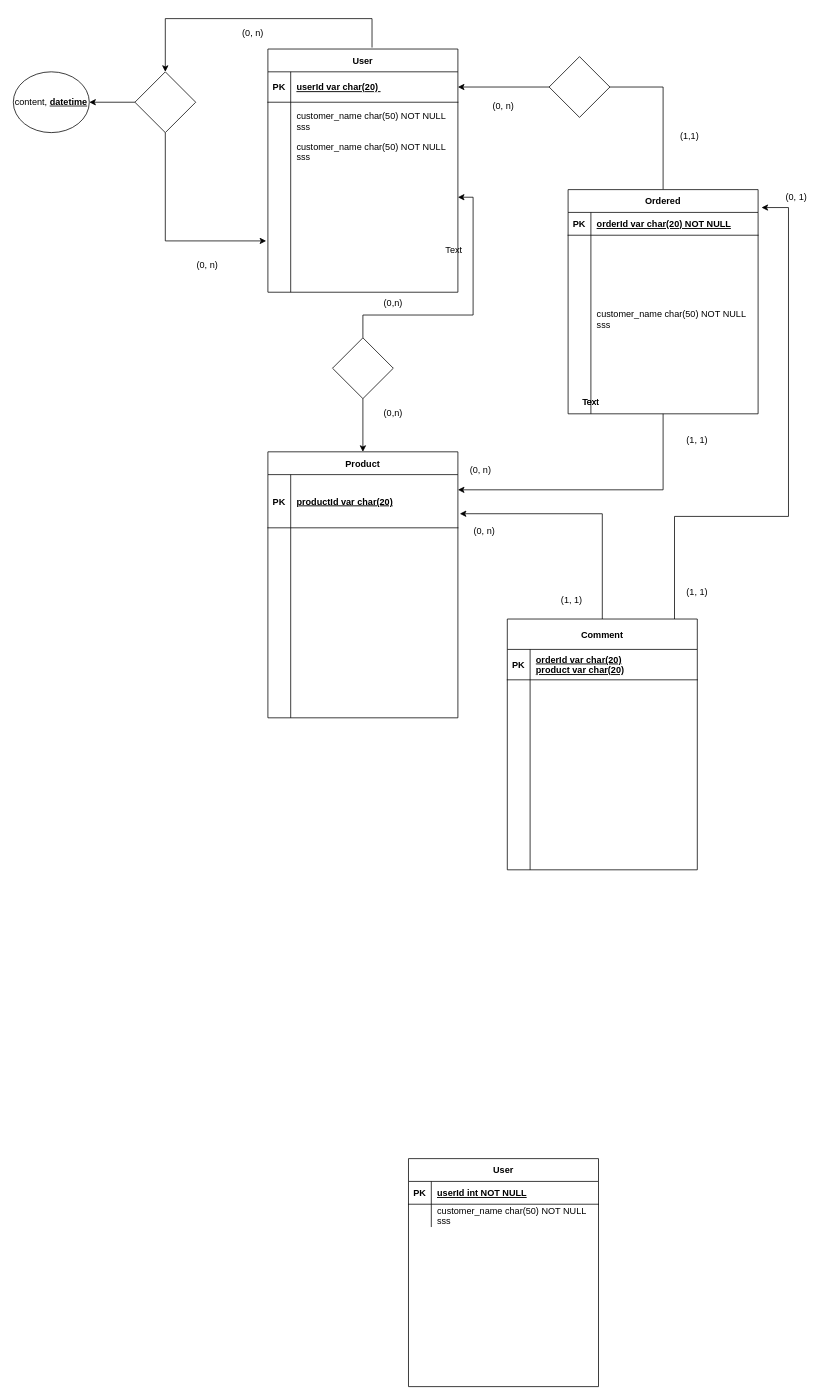
This 828x1400 diagram has some shape labels left out. Each missing label, with the centre of its shape:
"Notification, Chat" belongs at point (165, 102).
"Thêm vào giỏ" belongs at point (362, 368).
"Được mua" belongs at point (579, 86).
